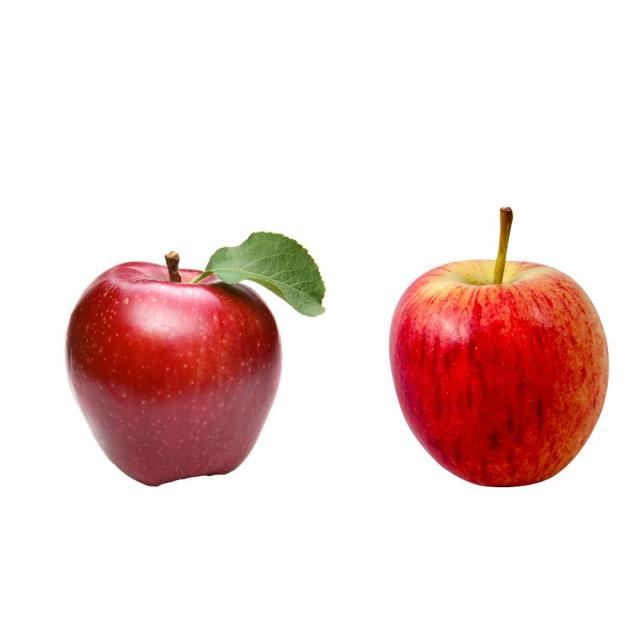Apel: (63, 229, 326, 486), (388, 205, 610, 488)
